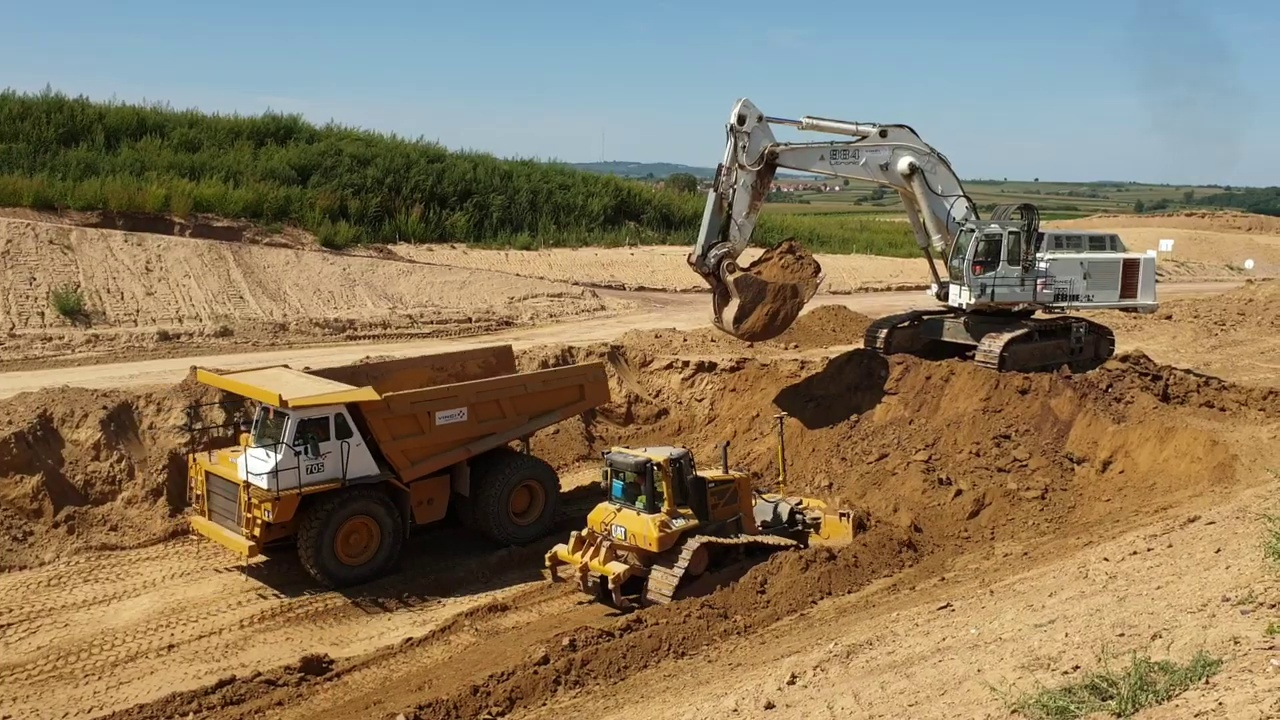bulldozer: (546, 406, 868, 616)
excavator: (683, 95, 1164, 381)
truck: (177, 338, 616, 590)
